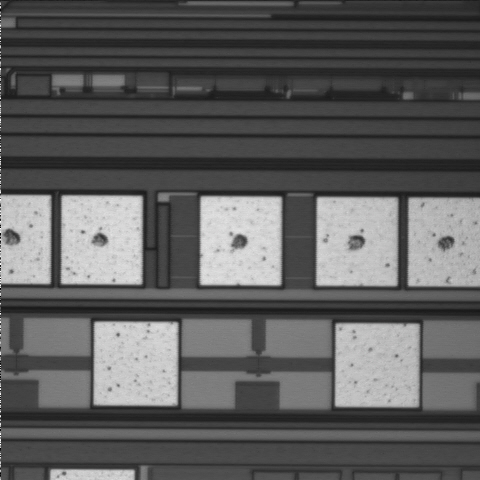pad: (200, 197, 281, 285), (62, 196, 142, 284), (317, 198, 397, 286), (94, 322, 177, 405), (336, 324, 418, 406)
